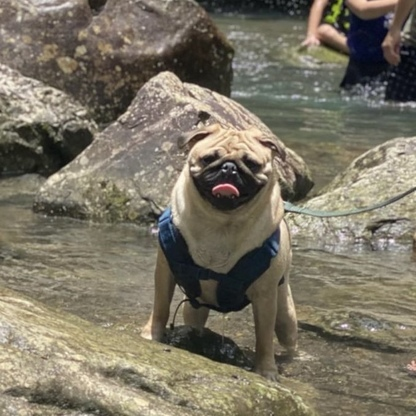Pug: (136, 120, 308, 383)
